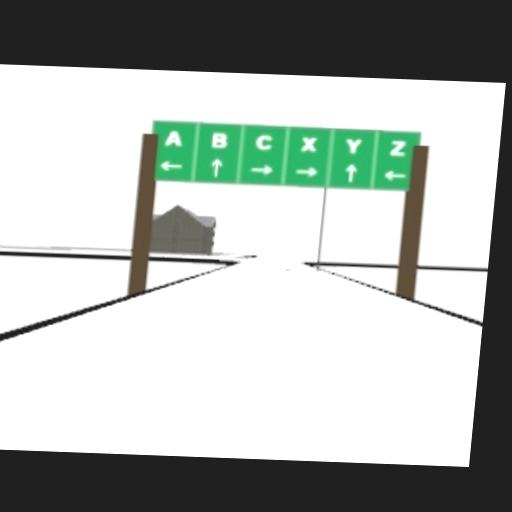A: (164, 130, 183, 148)
B: (211, 131, 228, 148)
C: (253, 133, 273, 152)
Left: (159, 159, 183, 171), (383, 169, 407, 181)
Right: (247, 162, 274, 176), (292, 166, 320, 178)
Straight: (343, 162, 359, 183), (209, 158, 224, 177)
X: (300, 137, 317, 151)
Y: (344, 136, 364, 155)
Z: (388, 139, 409, 158)
